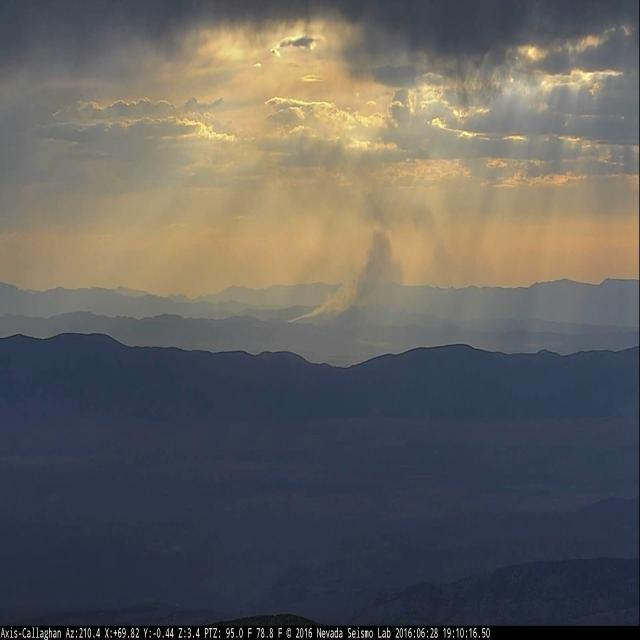smoke: (287, 228, 404, 327)
